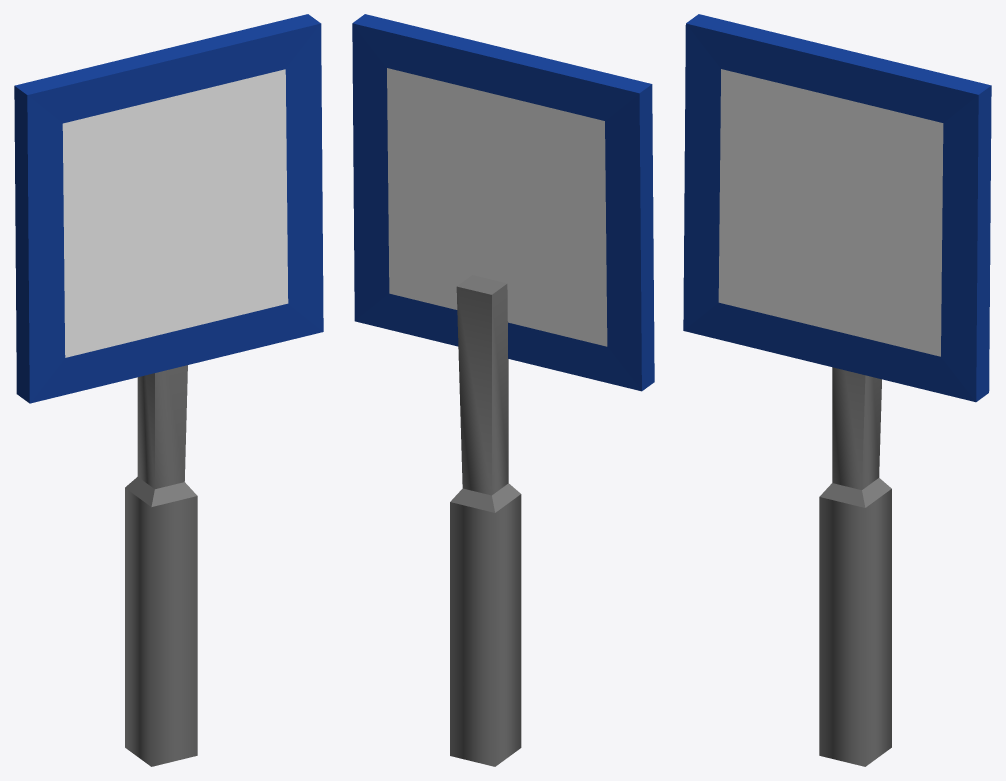
The model's file is SM_Road_Sing2.fbx.
The picture shows the model from 3 angles, left to right: view 1: azimuth 30°, elevation 25°; view 2: azimuth 150°, elevation 25°; view 3: azimuth 330°, elevation 25°; orthographic projection. The views are drawn at different scales.
Parts seen in each view (by area): view 1: SM_Road_Sing2; view 2: SM_Road_Sing2; view 3: SM_Road_Sing2.
Boxes of the visible parts, bbox=[...] form: SM_Road_Sing2: bbox=[14, 14, 323, 766]; SM_Road_Sing2: bbox=[352, 14, 654, 766]; SM_Road_Sing2: bbox=[683, 14, 991, 766].
Bounding box in the file's own units: 180 × 414 × 36.13.
